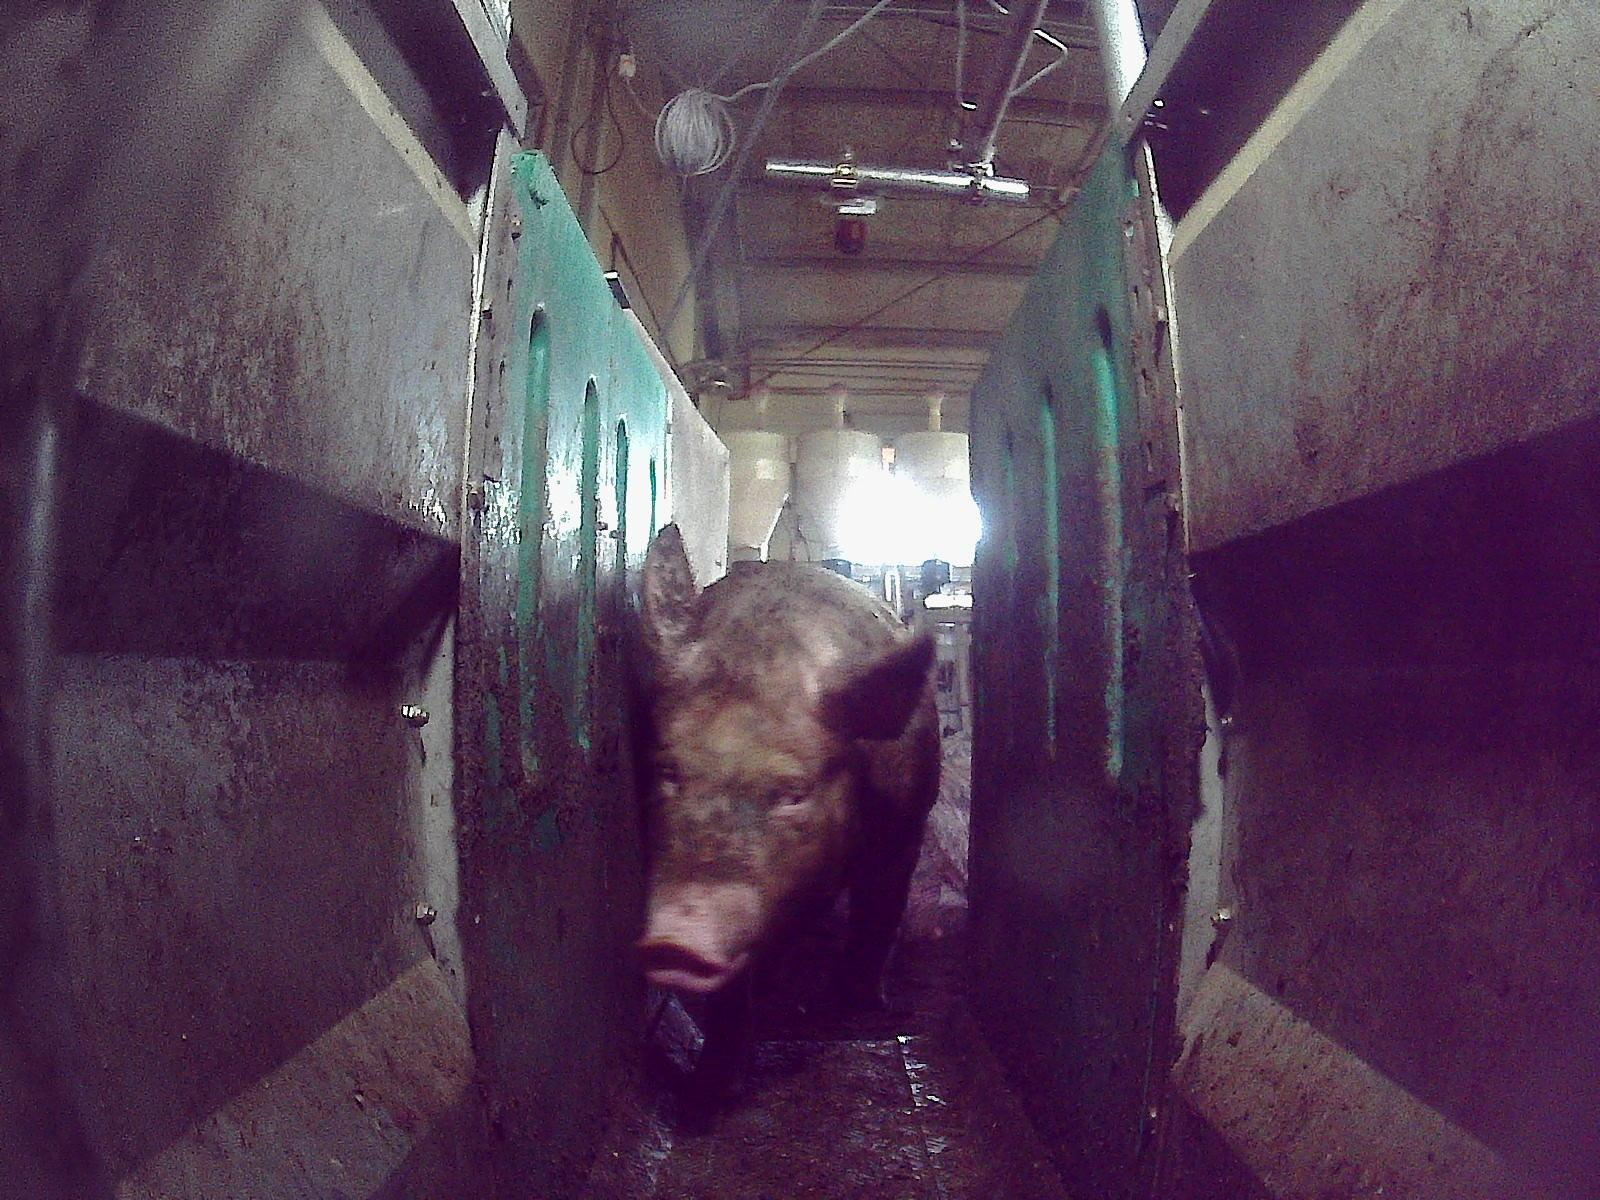Face: (638, 665, 849, 990)
